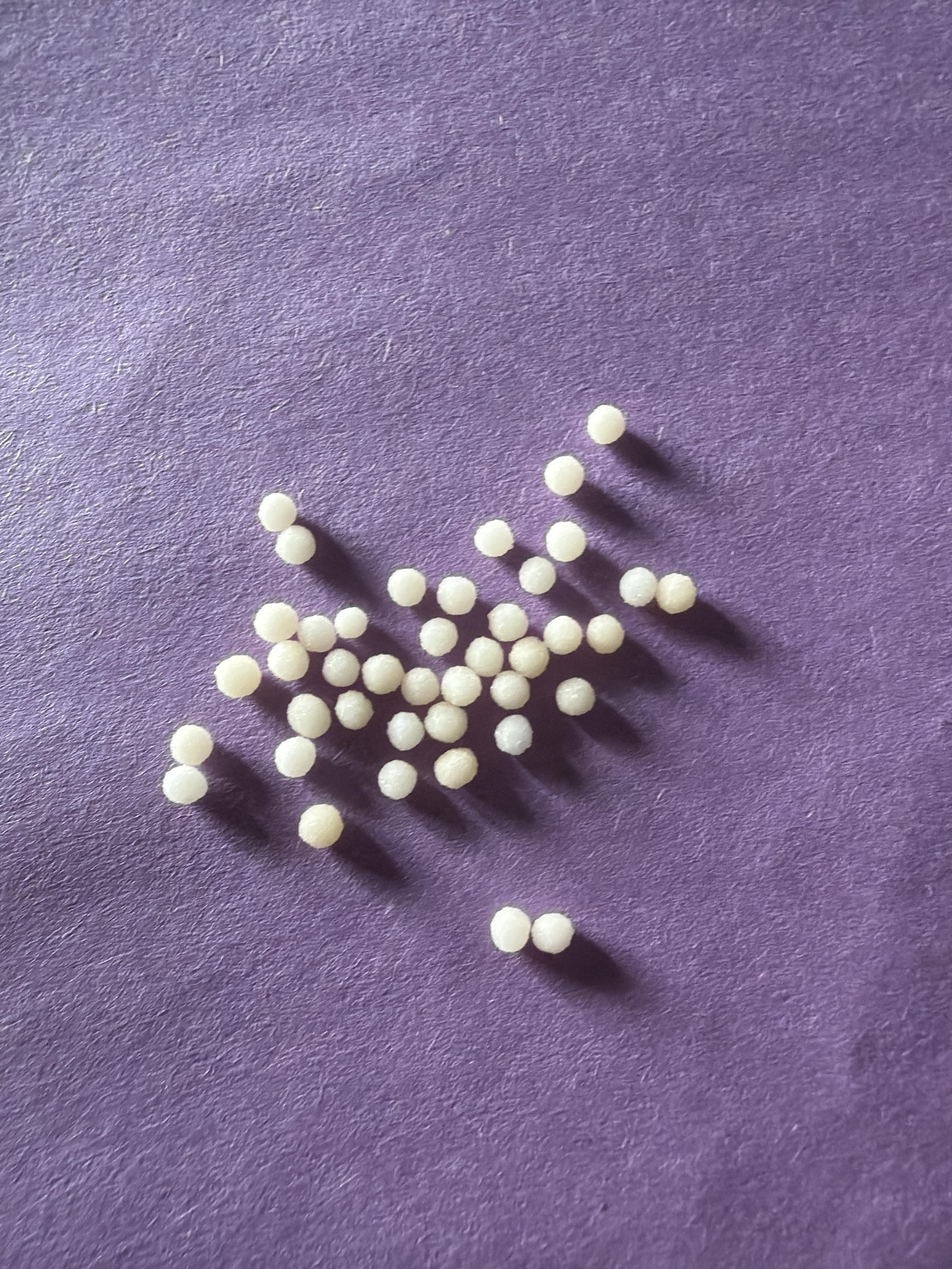pill: (214, 654, 261, 699), (286, 693, 331, 739), (298, 804, 343, 848), (489, 906, 531, 953), (531, 912, 575, 954), (170, 724, 213, 766), (425, 701, 468, 743), (434, 748, 478, 789), (253, 603, 298, 643), (162, 765, 207, 805), (274, 736, 316, 778), (362, 653, 404, 695), (508, 636, 549, 679), (267, 640, 309, 681), (441, 666, 482, 707), (275, 524, 316, 565), (546, 520, 586, 562), (436, 575, 477, 615), (655, 574, 696, 614), (464, 636, 504, 677), (544, 455, 584, 496), (490, 670, 530, 710), (543, 615, 583, 655), (488, 602, 528, 642), (494, 715, 533, 756), (586, 404, 625, 445), (378, 759, 417, 799), (258, 492, 296, 533), (586, 614, 625, 653), (419, 618, 458, 657), (387, 568, 426, 607), (619, 567, 657, 607), (335, 690, 373, 730), (473, 520, 514, 557), (322, 648, 360, 687), (556, 678, 595, 716), (518, 556, 556, 595), (298, 614, 336, 653), (401, 668, 439, 706), (387, 712, 424, 751), (334, 606, 368, 640)
